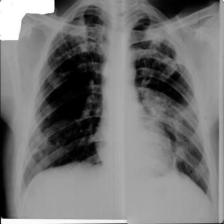tuberculosis: (18, 2, 215, 208)
